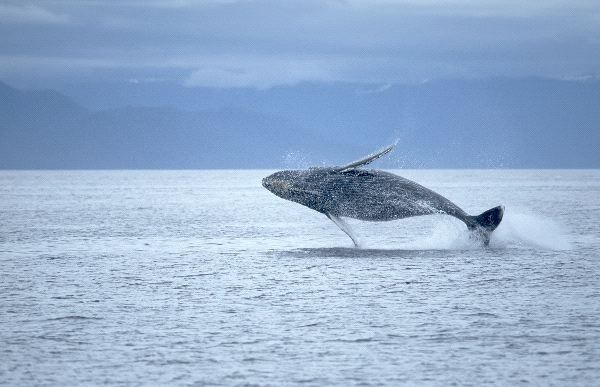humpback: (261, 163, 505, 250)
